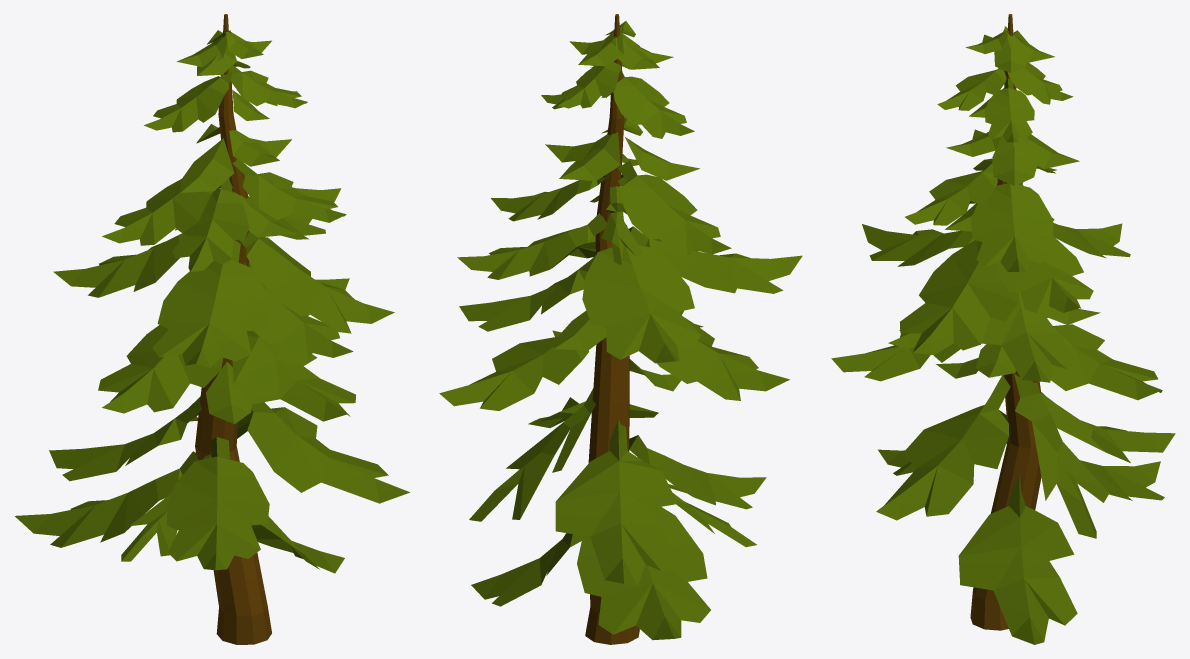
Rendered from tree_level_3.glb.
3 views of the same model, side by side, from view 1: azimuth 30°, elevation 25°; view 2: azimuth 150°, elevation 25°; view 3: azimuth 270°, elevation 25° (orthographic). The views are drawn at different scales.
Parts seen in each view (by area): view 1: tree_level_3; view 2: tree_level_3; view 3: tree_level_3.
Part boxes in pixels (x1,y1,x2,y2): tree_level_3: (15,14,410,644); tree_level_3: (439,14,802,644); tree_level_3: (831,14,1175,644).
Bounding box in the file's own units: 1.89 × 3.88 × 2.02.
Materials: 1 (1 with a texture image).
